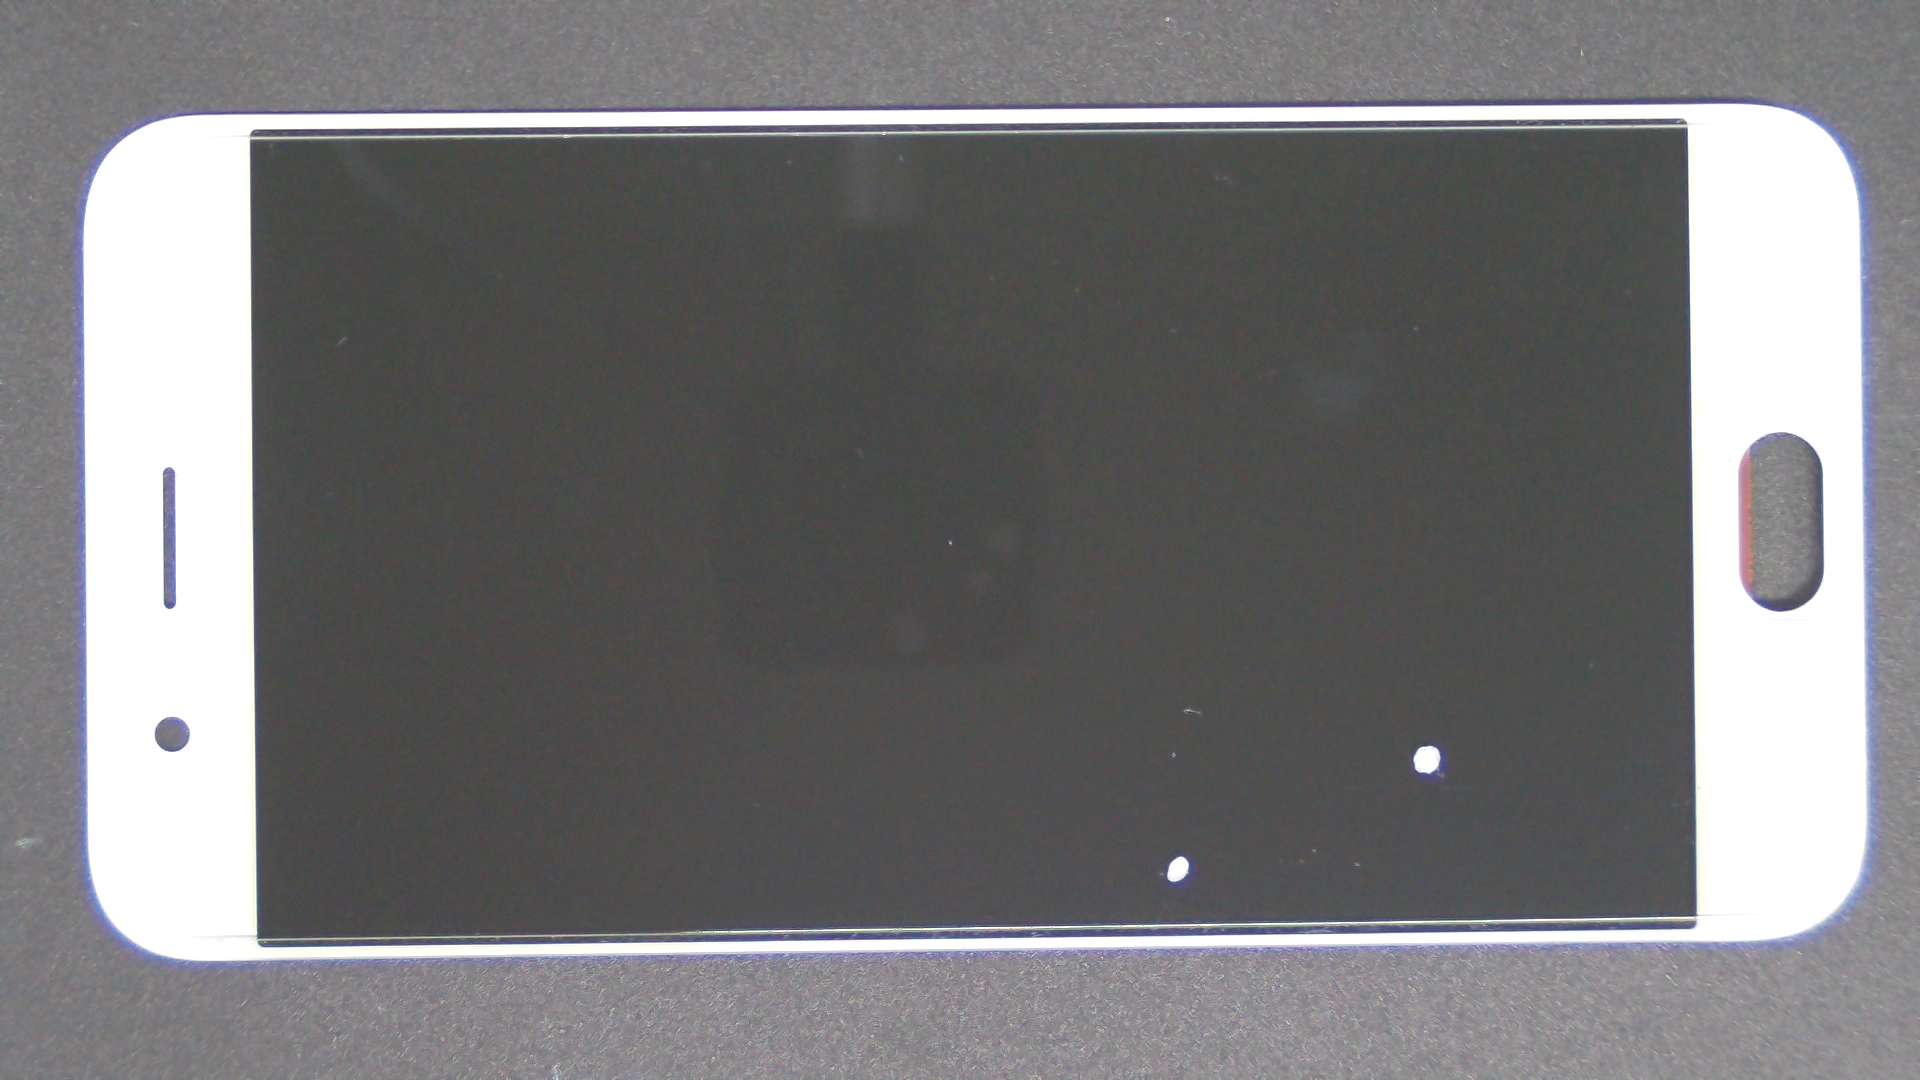oil: (713, 372, 1920, 1080), (589, 426, 1763, 1080)
